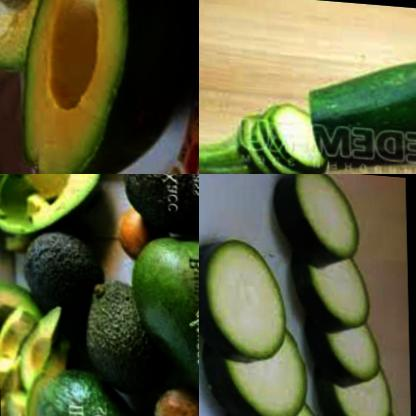avocado: (16, 0, 188, 174), (121, 231, 199, 416), (10, 233, 90, 366), (80, 263, 156, 392), (13, 364, 175, 416), (0, 275, 58, 416), (105, 174, 199, 237), (0, 174, 96, 235)
vegetable marrow: (306, 22, 416, 174), (199, 224, 290, 366), (199, 315, 312, 416), (199, 82, 317, 174), (274, 174, 378, 271), (294, 242, 375, 331), (312, 300, 384, 386), (320, 353, 395, 416), (213, 390, 331, 416)
